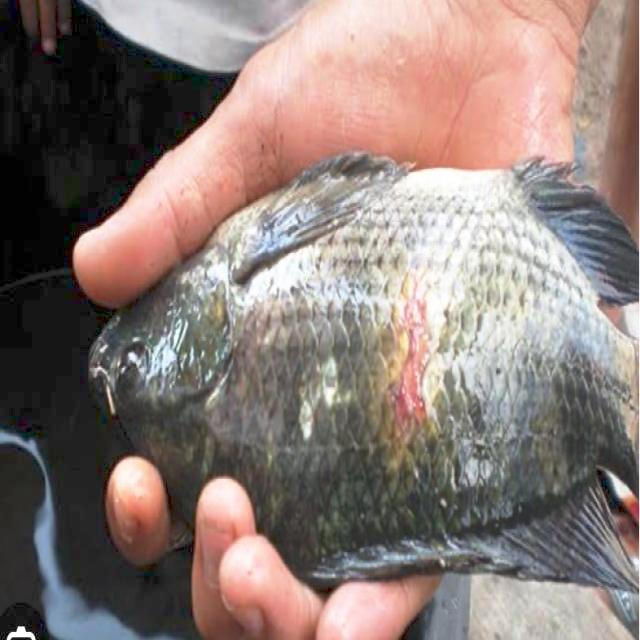Tilapia Lake Virus -TiLV-: (89, 153, 637, 620), (89, 154, 637, 619)
